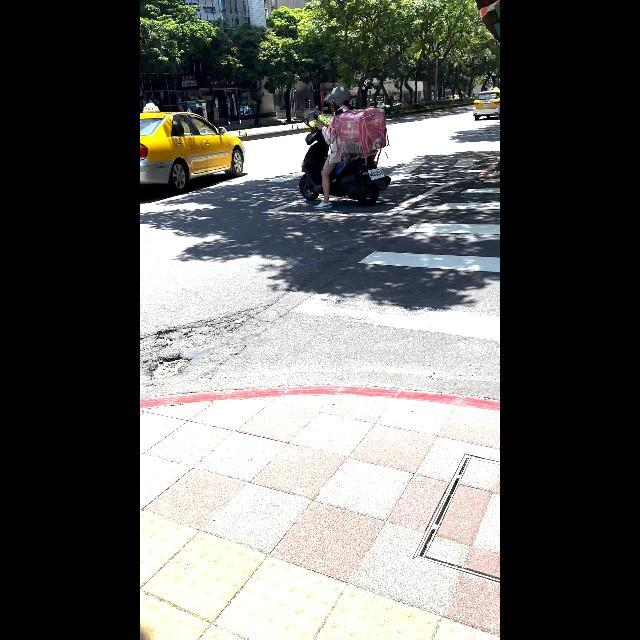sidewalk: (165, 161, 498, 399)
